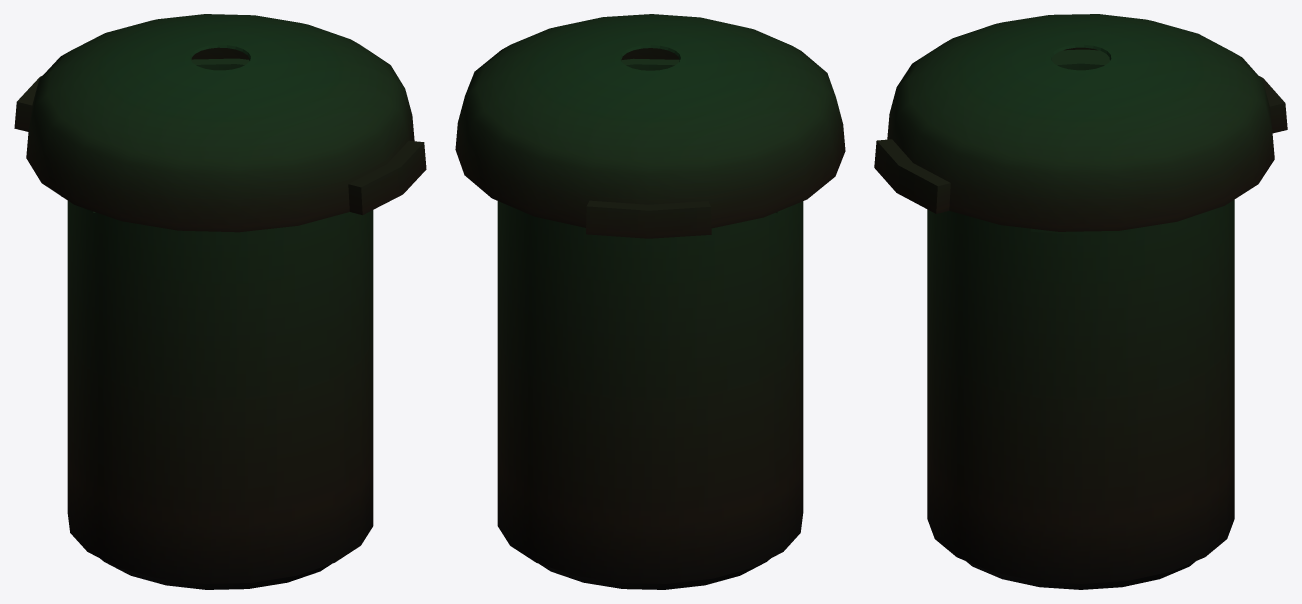
3 views of the same model, side by side, from view 1: azimuth 30°, elevation 25°; view 2: azimuth 150°, elevation 25°; view 3: azimuth 270°, elevation 25° (orthographic).
Visible parts, largest first — view 1: polySurface1, pSphere1; view 2: polySurface1, pSphere1; view 3: polySurface1, pSphere1.
Part boxes in pixels (left/top/right/bottom): polySurface1: left=61, top=58, right=373, bottom=589; pSphere1: left=14, top=14, right=426, bottom=232; polySurface1: left=497, top=58, right=803, bottom=589; pSphere1: left=455, top=14, right=845, bottom=238; polySurface1: left=927, top=49, right=1234, bottom=589; pSphere1: left=874, top=14, right=1287, bottom=231.
Bounding box in the file's own units: 0.2987 × 0.4044 × 0.3186.
Materials: 1 (1 with a texture image).
